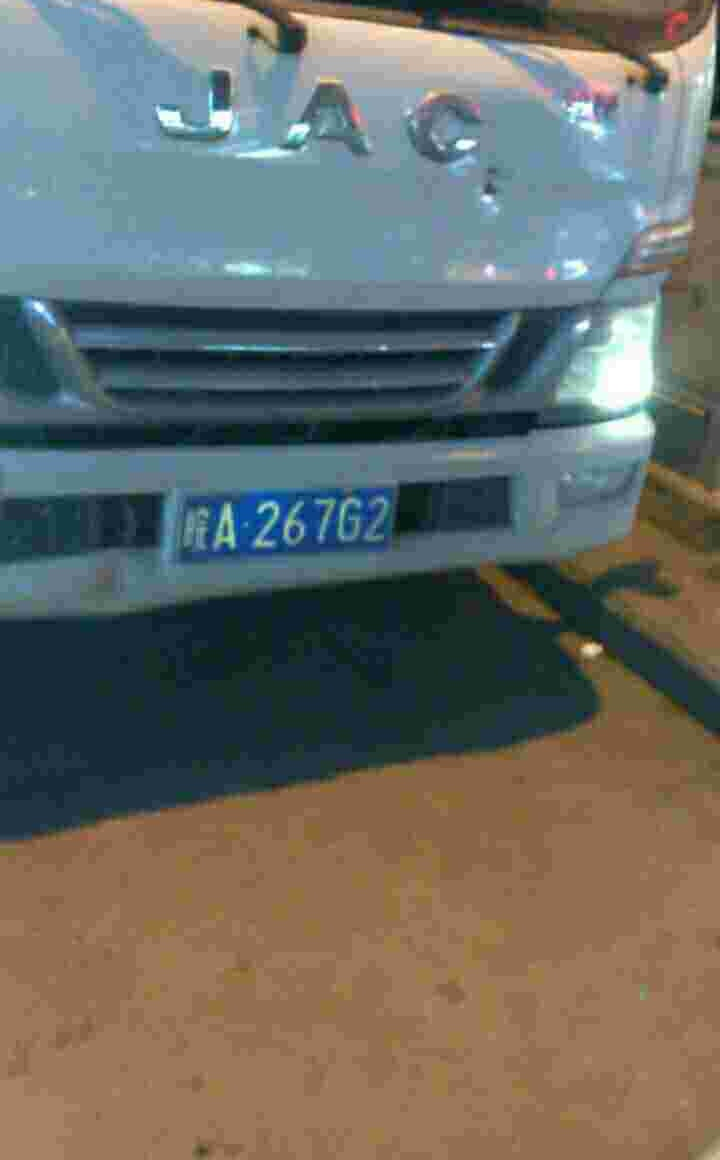car: (183, 497, 398, 554)
